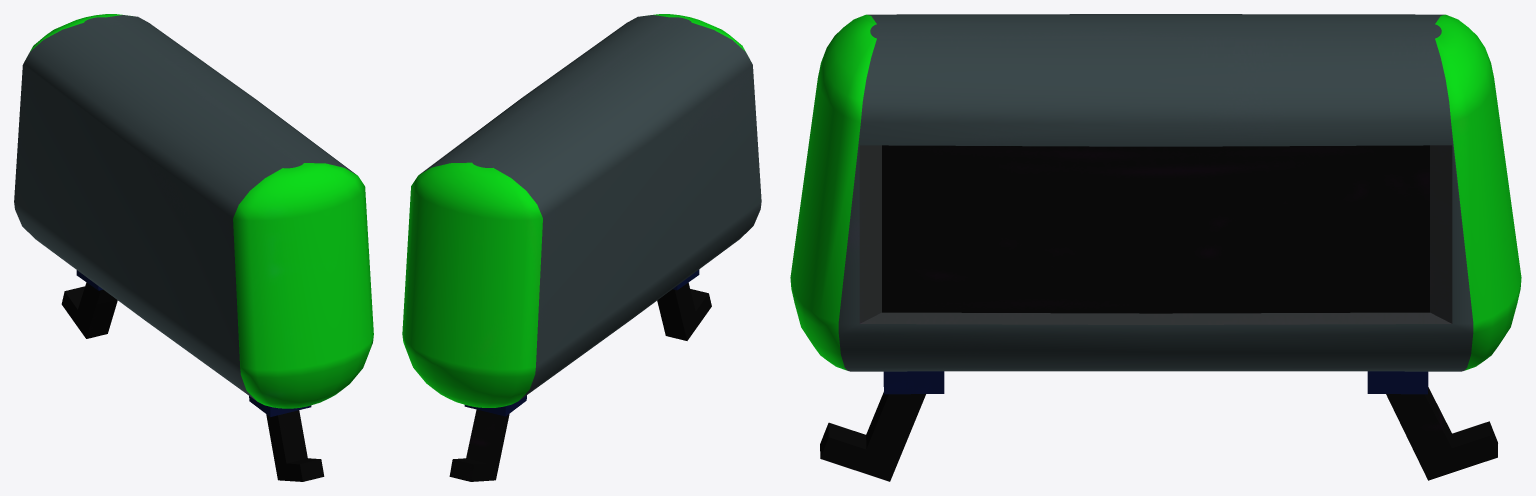
Rendered from DataPacket2.fbx.
3 views of the same model, side by side, from view 1: azimuth 30°, elevation 25°; view 2: azimuth 150°, elevation 25°; view 3: azimuth 270°, elevation 25° (orthographic). The views are drawn at different scales.
Parts seen in each view (by area): view 1: pSphere1; view 2: pSphere1; view 3: pSphere1.
Boxes of the visible parts, <box> form: pSphere1: <box>14,14,373,481</box>; pSphere1: <box>402,14,761,481</box>; pSphere1: <box>790,14,1521,481</box>.
Size of the model in its own units: 1.96 by 4.29 by 6.41.
